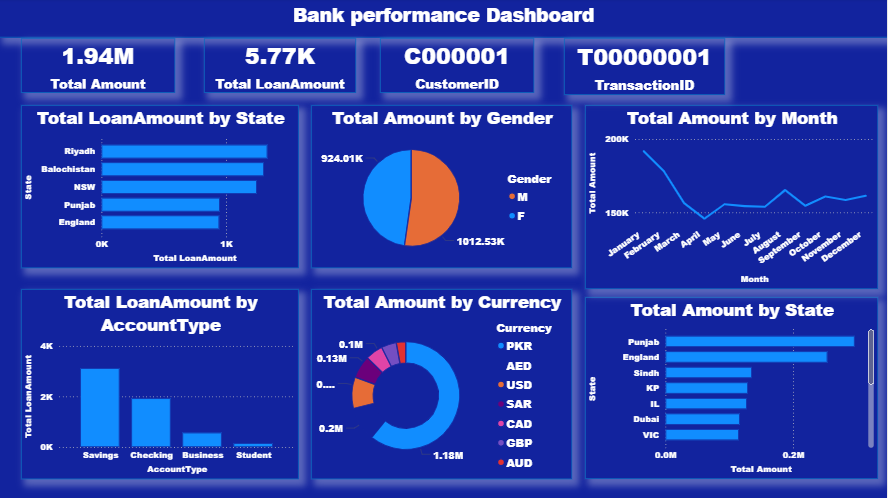

What the dashboard file says about the page in this screenshot:
{"tool":"powerbi","page":{"name":"Page 1","canvas":[1280,720],"ordinal":0},"visuals":[{"type":"textbox","box":[0,0,1280,57.1],"z":0},{"type":"lineStackedColumnComboChart","fields":{"Category":["Sheet1.AccountType"],"Y":["Sum(Sheet1.LoanAmount)"]},"box":[31.7,419,400.3,273.6],"z":1000},{"type":"barChart","fields":{"Category":["Branches.State"],"Y":["Sum(Accounts.LoanAmount)"]},"box":[31.7,154.1,400.3,234.7],"z":2000},{"type":"clusteredBarChart","fields":{"Category":["Sheet1.State"],"Y":["Sum(Transactions.Amount)"]},"box":[843.8,430.6,421.9,262.1],"z":3000},{"type":"lineChart","fields":{"Y":["Sum(Transactions.Amount)"],"Category":["Transactions.TxnDateTime.Variation.Date Hierarchy.Month"]},"box":[843.8,154.1,421.9,265],"z":4000},{"type":"card","fields":{"Values":["Sum(Sheet1.LoanAmount)"]},"box":[295.2,57.6,218.9,79.2],"z":5000},{"type":"card","fields":{"Values":["Sum(Transactions.Amount)"]},"box":[31.7,57.6,221.8,79.2],"z":6000},{"type":"card","fields":{"Values":["Min(Transactions.CustomerID)"]},"box":[548.6,57.6,221.8,79.2],"z":7000},{"type":"card","fields":{"Values":["Min(Transactions.TransactionID)"]},"box":[813.6,57.6,231.8,82.1],"z":8000},{"type":"pieChart","fields":{"Category":["Sheet1.Gender"],"Y":["Sum(Transactions.Amount)"]},"box":[449.3,154.1,375.8,234.7],"z":9000},{"type":"donutChart","fields":{"Category":["Transactions.Currency"],"Y":["Sum(Transactions.Amount)"]},"box":[449,419,376,274],"z":10000}]}

Visuals, with their boxes in screenshot pixels (x1, y1, x2, y2), scaled from the page's 1280x720 canvas onto the 888x498 screenshot:
textbox: bbox=(0, 0, 887, 39)
lineStackedColumnComboChart - Sheet1.AccountType x Sum(Sheet1.LoanAmount): bbox=(22, 290, 300, 479)
barChart - Branches.State x Sum(Accounts.LoanAmount): bbox=(22, 107, 300, 269)
clusteredBarChart - Sheet1.State x Sum(Transactions.Amount): bbox=(585, 298, 878, 479)
lineChart - Sum(Transactions.Amount) x Transactions.TxnDateTime.Variation.Date Hierarchy.Month: bbox=(585, 107, 878, 290)
card - Sum(Sheet1.LoanAmount): bbox=(205, 40, 357, 95)
card - Sum(Transactions.Amount): bbox=(22, 40, 176, 95)
card - Min(Transactions.CustomerID): bbox=(381, 40, 534, 95)
card - Min(Transactions.TransactionID): bbox=(564, 40, 725, 97)
pieChart - Sheet1.Gender x Sum(Transactions.Amount): bbox=(312, 107, 572, 269)
donutChart - Transactions.Currency x Sum(Transactions.Amount): bbox=(311, 290, 572, 479)
